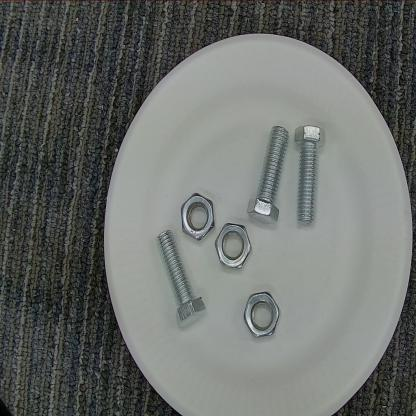FOD: (148, 226, 210, 333), (245, 121, 290, 229), (292, 119, 327, 233), (213, 218, 254, 274), (241, 288, 283, 341), (179, 189, 215, 247)
